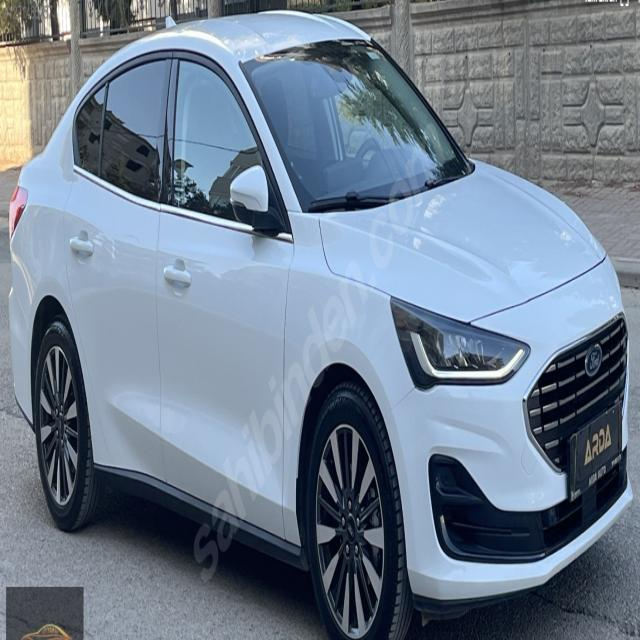ford: (583, 338, 604, 382)
